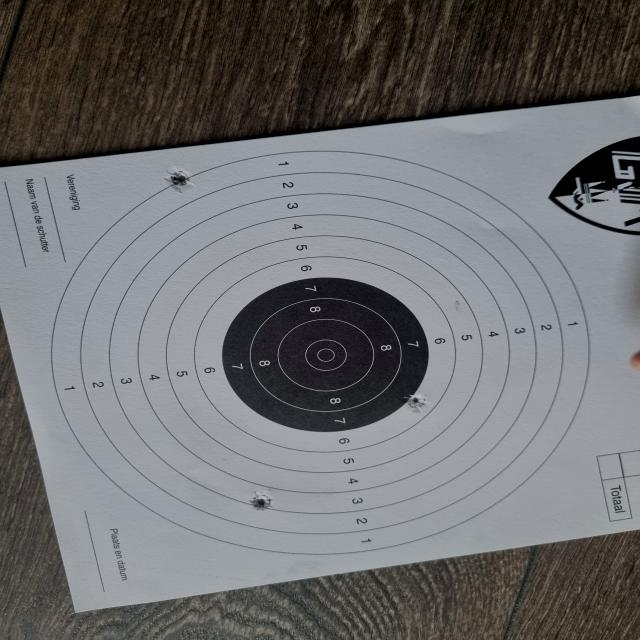1: (165, 169, 193, 190)
3: (250, 492, 273, 511)
7: (402, 393, 426, 408)
Target: (50, 150, 592, 555)
black_contour: (220, 278, 429, 433)
